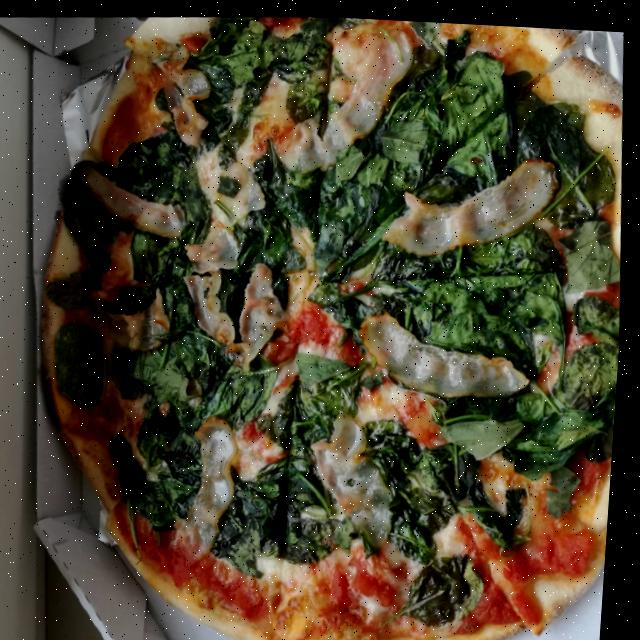pizza: (9, 2, 640, 640)
